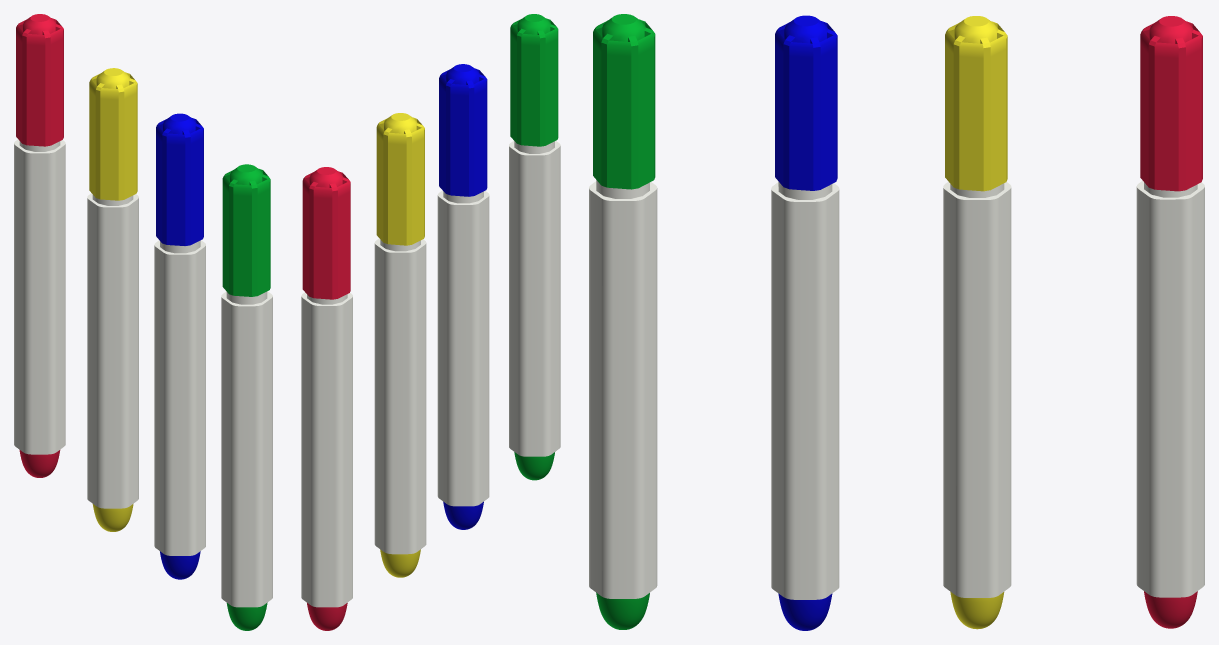
File: whiteboardMarkersClosed.fbx
The picture shows the model from 3 angles, left to right: view 1: azimuth 30°, elevation 25°; view 2: azimuth 150°, elevation 25°; view 3: azimuth 270°, elevation 25°; orthographic projection. The views are drawn at different scales.
Parts seen in each view (by area): view 1: marker-green, marker-blue, marker-yellow, marker-red, cap-yellow, cap-green, cap-blue, cap-red; view 2: marker-blue, marker-yellow, marker-green, marker-red, cap-blue, cap-red, cap-green, cap-yellow; view 3: marker-green, marker-blue, marker-yellow, marker-red, cap-green, cap-blue, cap-yellow, cap-red.
Part boxes in pixels (bbox=[...]): marker-green: bbox=[221, 291, 272, 630]; marker-blue: bbox=[154, 240, 205, 579]; marker-yellow: bbox=[87, 193, 138, 531]; marker-red: bbox=[14, 139, 65, 477]; cap-yellow: bbox=[89, 68, 137, 200]; cap-green: bbox=[222, 164, 270, 296]; cap-blue: bbox=[156, 113, 203, 245]; cap-red: bbox=[16, 14, 63, 146]; marker-blue: bbox=[437, 190, 489, 529]; marker-yellow: bbox=[374, 238, 426, 577]; marker-green: bbox=[509, 140, 560, 480]; marker-red: bbox=[301, 292, 352, 630]; cap-blue: bbox=[439, 64, 487, 196]; cap-red: bbox=[302, 167, 350, 299]; cap-green: bbox=[510, 14, 558, 146]; cap-yellow: bbox=[376, 113, 424, 245]; marker-green: bbox=[589, 180, 657, 629]; marker-blue: bbox=[771, 181, 839, 630]; marker-yellow: bbox=[943, 181, 1011, 629]; marker-red: bbox=[1136, 180, 1204, 628]; cap-green: bbox=[593, 14, 655, 189]; cap-blue: bbox=[775, 15, 837, 190]; cap-yellow: bbox=[945, 16, 1007, 191]; cap-red: bbox=[1140, 16, 1202, 191].
Size of the model in its own units: 1.44 by 14.62 by 13.43.
